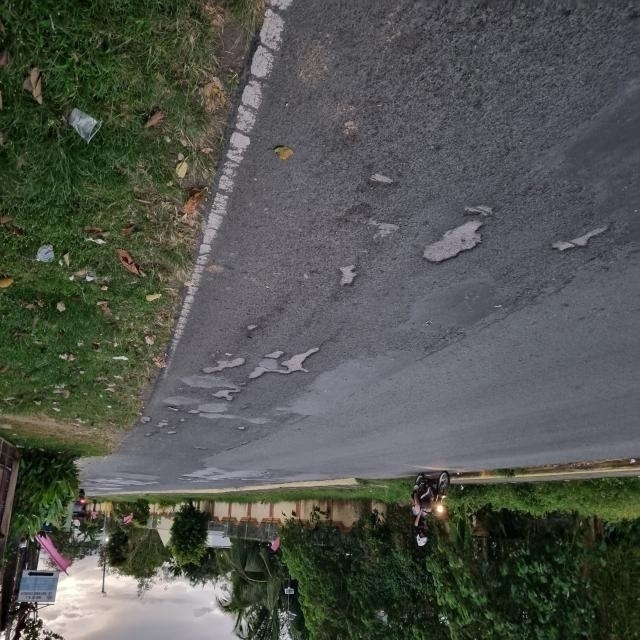pothole: (536, 163, 615, 274), (424, 186, 501, 297), (238, 327, 334, 412), (188, 332, 250, 392), (359, 154, 412, 202), (333, 246, 370, 313), (137, 408, 181, 450), (198, 380, 242, 408), (232, 418, 254, 443)
